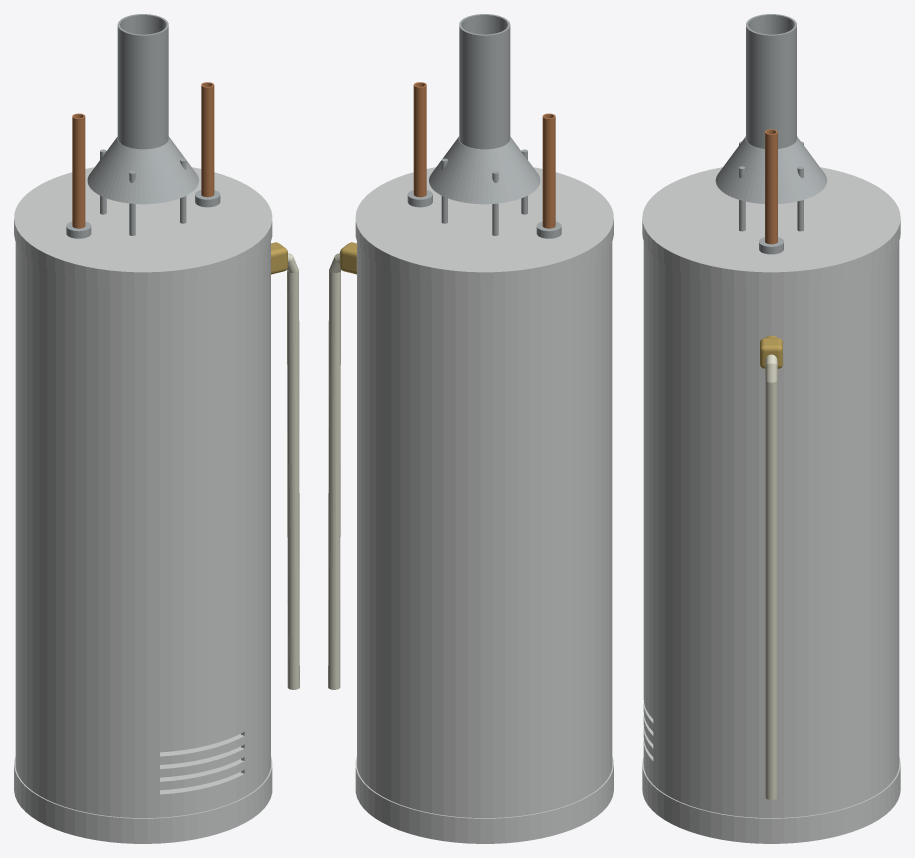
The model's file is full.glb.
3 renders of one model, left to right at view 1: azimuth 30°, elevation 25°; view 2: azimuth 150°, elevation 25°; view 3: azimuth 270°, elevation 25°, orthographic.
Visible parts, largest first — view 1: Tank shell with four real vents, Flat upper lid, Rounded bottom closure, Open vertical exhaust flue, Open discharge tube, Open draft hood, Open copper stub -0.16, Open copper stub 0.16; view 2: Tank shell with four real vents, Flat upper lid, Rounded bottom closure, Open vertical exhaust flue, Open discharge tube, Open draft hood, Open copper stub -0.16, Open copper stub 0.16; view 3: Tank shell with four real vents, Flat upper lid, Rounded bottom closure, Open vertical exhaust flue, Open discharge tube, Open draft hood, Open copper stub 0.16, Brass valve elbow.
Part boxes in pixels (box(x1,y1,x2,y2)): Tank shell with four real vents: box(15, 242, 270, 817); Flat upper lid: box(14, 167, 272, 287); Rounded bottom closure: box(14, 733, 272, 843); Open vertical exhaust flue: box(117, 14, 168, 149); Open discharge tube: box(287, 253, 299, 689); Open draft hood: box(87, 136, 198, 204); Open copper stub -0.16: box(72, 113, 85, 228); Open copper stub 0.16: box(201, 82, 214, 197); Tank shell with four real vents: box(357, 242, 612, 817); Flat upper lid: box(355, 167, 613, 287); Rounded bottom closure: box(355, 756, 613, 843); Open vertical exhaust flue: box(459, 14, 510, 149); Open discharge tube: box(328, 253, 340, 689); Open draft hood: box(429, 136, 540, 204); Open copper stub -0.16: box(542, 113, 555, 228); Open copper stub 0.16: box(413, 82, 426, 197); Tank shell with four real vents: box(643, 241, 899, 817); Flat upper lid: box(642, 167, 900, 287); Rounded bottom closure: box(642, 757, 900, 843); Open vertical exhaust flue: box(746, 14, 796, 148); Open discharge tube: box(765, 354, 777, 799); Open draft hood: box(715, 136, 827, 203); Open copper stub 0.16: box(765, 129, 777, 244); Brass valve elbow: box(760, 338, 782, 368).
Size of the model in its own units: 0.665 by 1.82 by 0.556.
